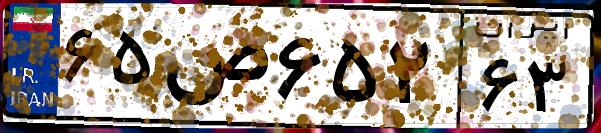2: (385, 28, 445, 110)
3: (525, 38, 570, 115)
5: (330, 28, 385, 110), (110, 28, 158, 98)
6: (270, 28, 330, 110), (57, 26, 110, 100), (475, 38, 525, 113)
ص: (158, 20, 270, 120)
